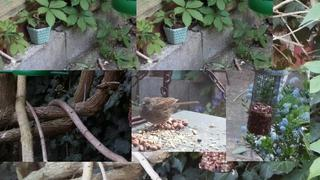dunnock: (139, 97, 199, 131)
